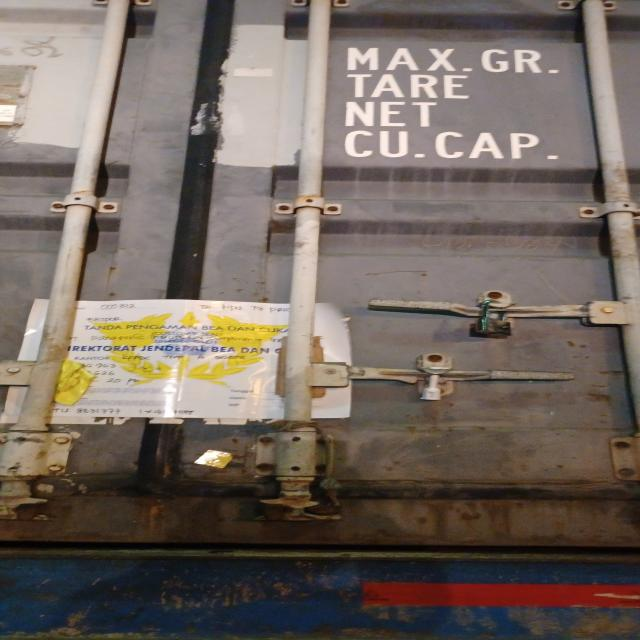seal: (420, 361, 462, 402), (474, 298, 514, 338)
